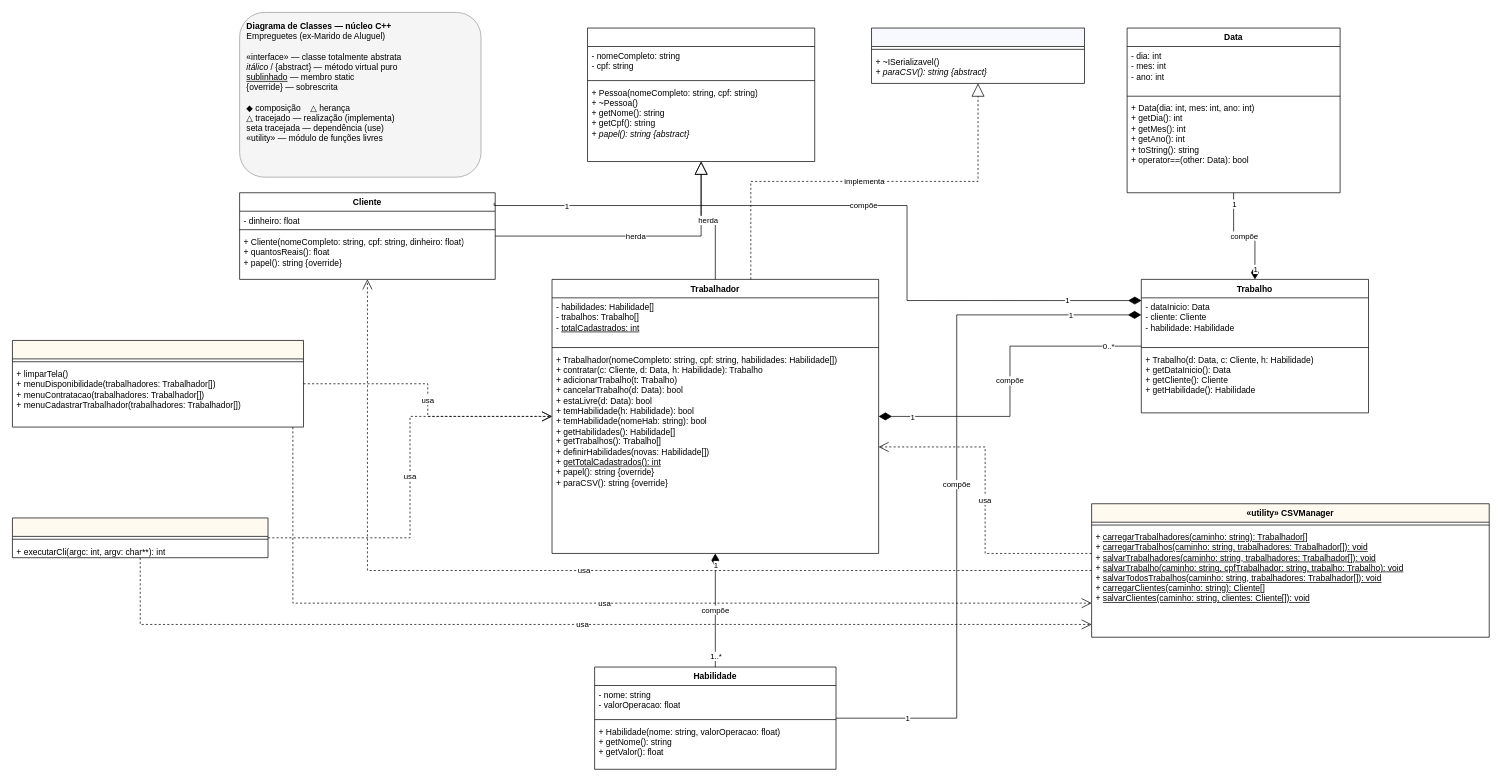
Image size: 1502x784. Some labels were removed from this diagram. Here are the shapes that lost their labels. From the top down, the box of each, then its label:
(871, 27, 1085, 83): «interface» ISerializavel
(587, 27, 815, 162): Pessoa {abstract}
(12, 340, 304, 427): «utility» Menu
(12, 517, 268, 558): «utility» Cli
